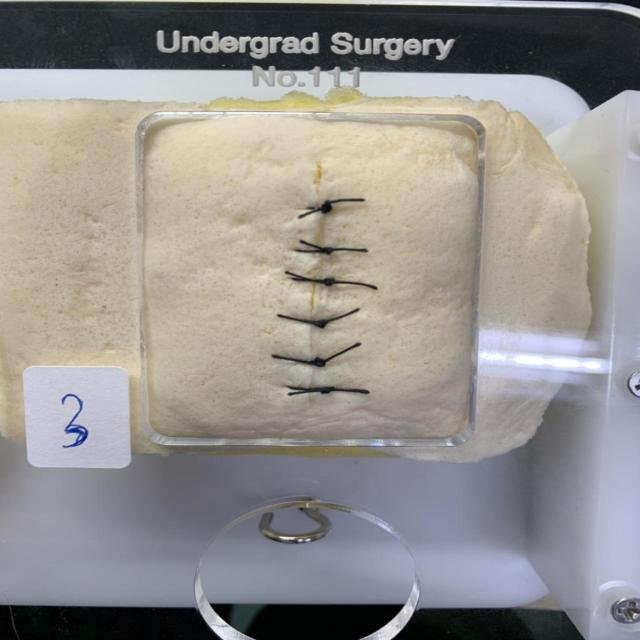knot: (322, 201, 332, 213), (323, 278, 335, 287), (314, 358, 326, 367), (314, 320, 327, 328), (321, 247, 334, 254), (320, 388, 332, 394)
leftover: (318, 341, 363, 366), (319, 306, 361, 326), (282, 270, 332, 284), (323, 198, 368, 211), (328, 280, 379, 291), (268, 354, 317, 365), (296, 239, 330, 253), (295, 206, 327, 220), (322, 387, 372, 395), (284, 387, 326, 396), (274, 313, 308, 324), (326, 247, 370, 253)
stitch: (288, 276, 337, 285), (284, 384, 336, 392), (293, 318, 326, 326), (298, 359, 328, 367), (292, 248, 332, 253), (302, 205, 334, 211)
wound: (306, 158, 325, 407)
